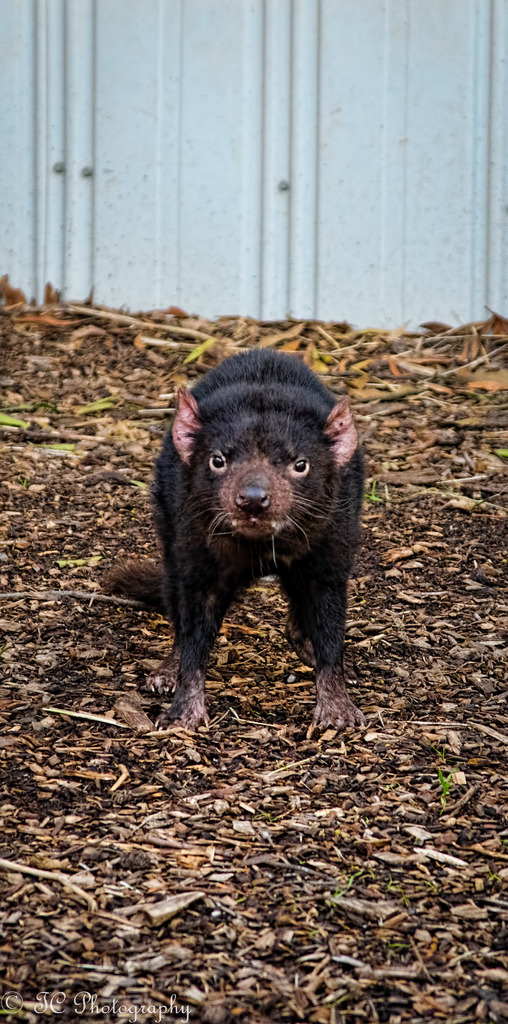face: (221, 390, 300, 546)
